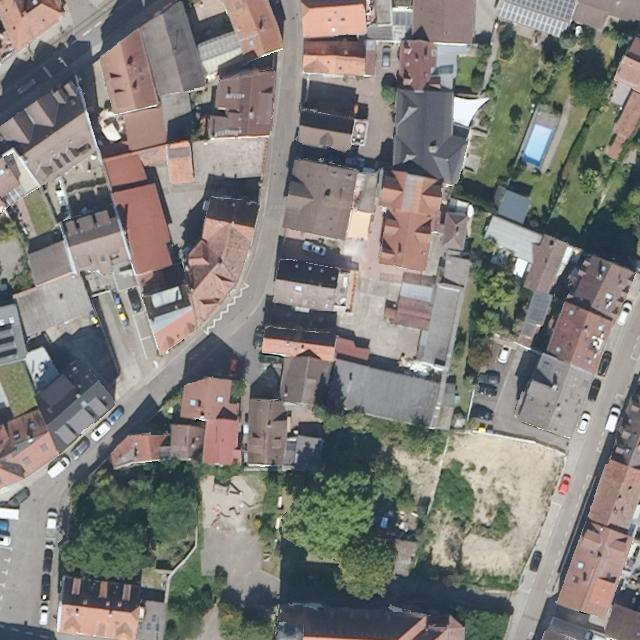PV: (493, 0, 583, 42)
